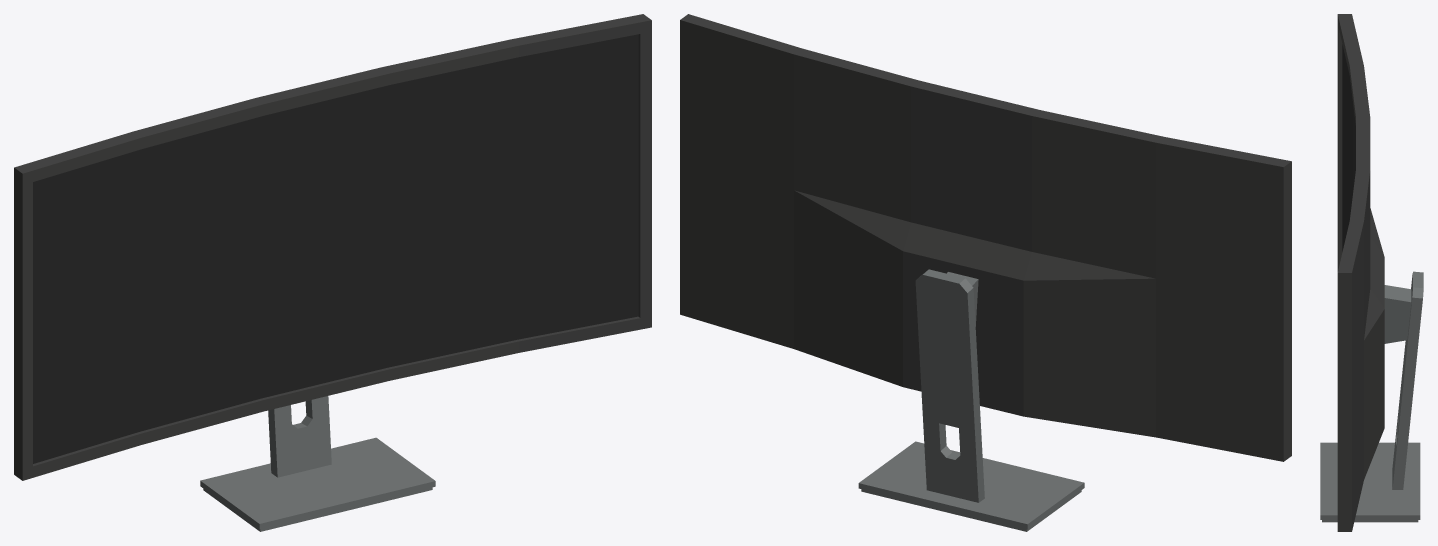
The model's file is SM_Props_Interior_Shop_Electronic_Monitor_04.fbx.
3 views of the same model, side by side, from view 1: azimuth 30°, elevation 25°; view 2: azimuth 150°, elevation 25°; view 3: azimuth 270°, elevation 25° (orthographic). The views are drawn at different scales.
Visible parts, largest first — view 1: SM_Props_Interior_Shop_Electronic_Monitor_04; view 2: SM_Props_Interior_Shop_Electronic_Monitor_04; view 3: SM_Props_Interior_Shop_Electronic_Monitor_04.
Part boxes in pixels (left/top/right/bottom): SM_Props_Interior_Shop_Electronic_Monitor_04: left=14, top=14, right=651, bottom=531; SM_Props_Interior_Shop_Electronic_Monitor_04: left=680, top=14, right=1291, bottom=531; SM_Props_Interior_Shop_Electronic_Monitor_04: left=1320, top=14, right=1423, bottom=531.
Bounding box in the file's own units: 85.71 × 53.14 × 14.49.
